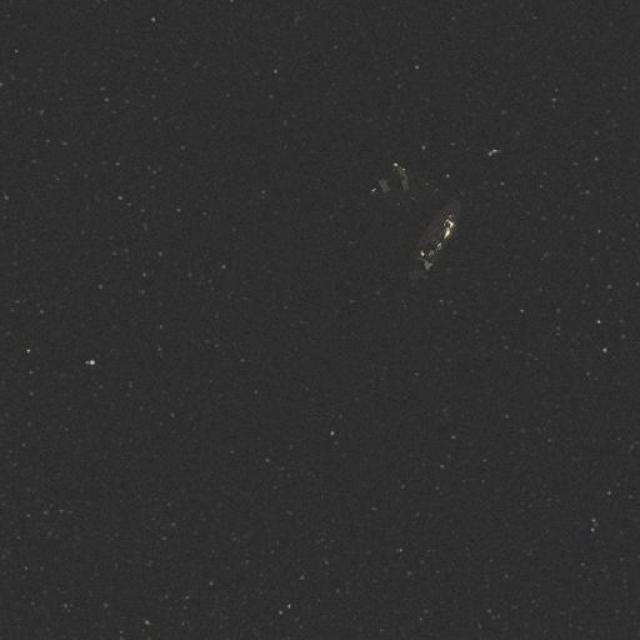proba_3_ocs: (344, 145, 474, 283)
